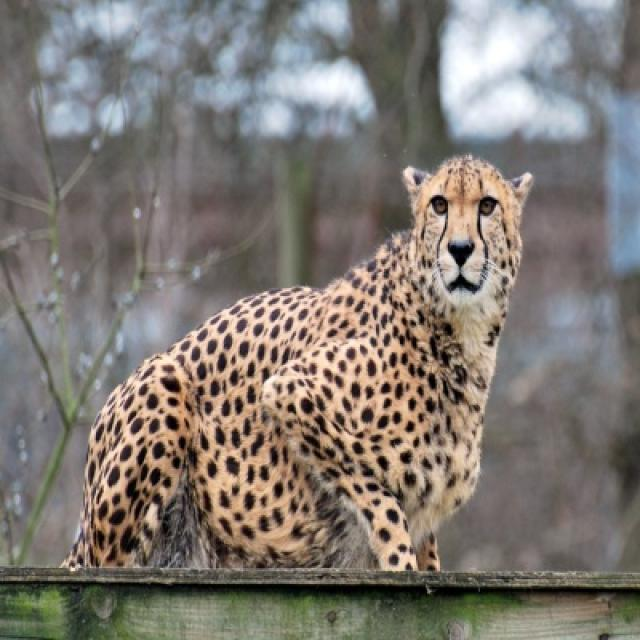Cheetah: (63, 157, 536, 581)
